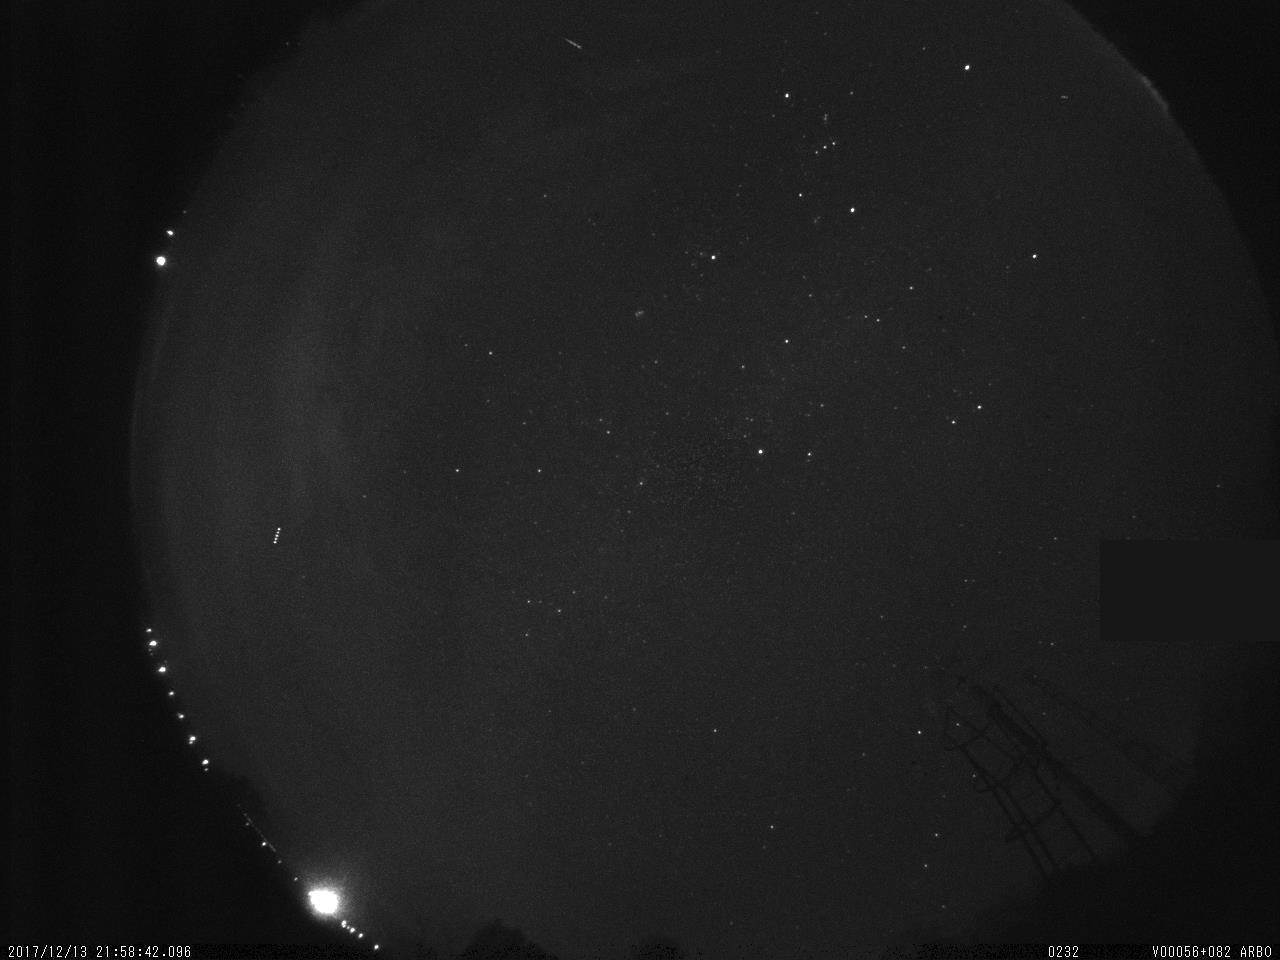Meteor: (558, 29, 591, 58)
